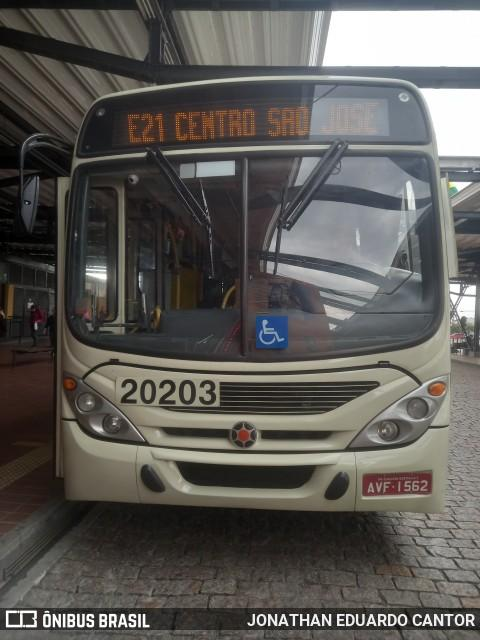CENTRO SAO JOSE: (167, 97, 385, 146)
